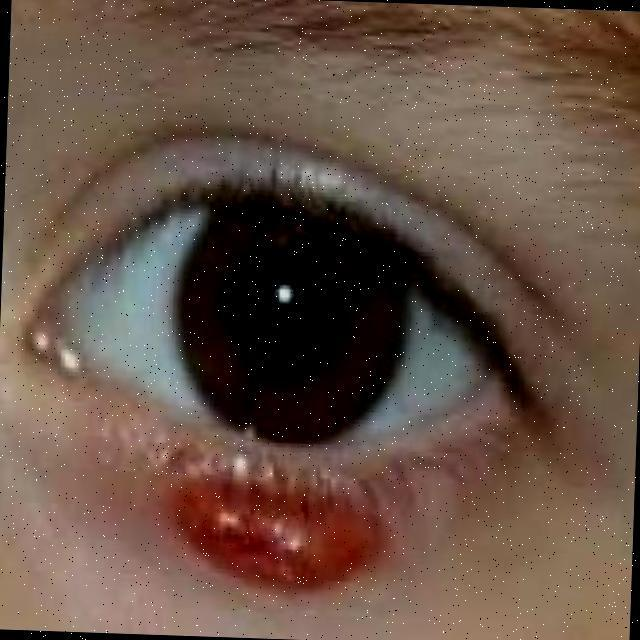Stye: (122, 398, 407, 600)
